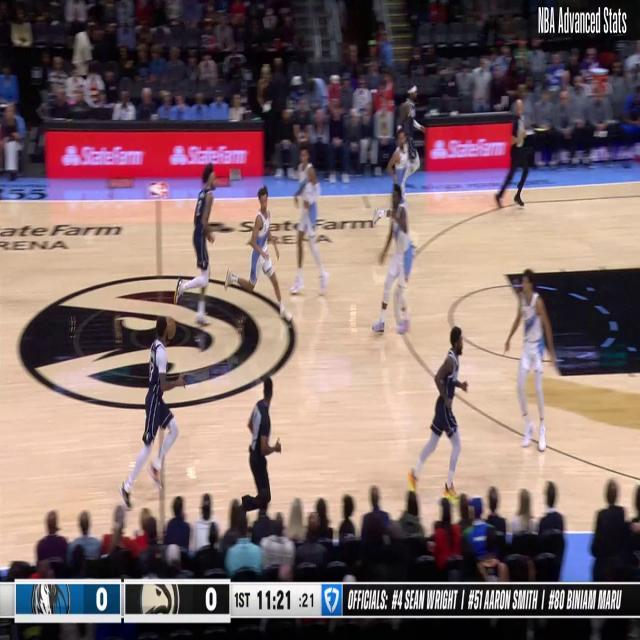ball: (163, 311, 177, 344)
player: (117, 314, 187, 512), (406, 323, 471, 504), (502, 266, 563, 454), (223, 183, 293, 325), (172, 161, 218, 328), (370, 181, 417, 338), (288, 145, 330, 298), (382, 132, 410, 272), (392, 82, 419, 214)
